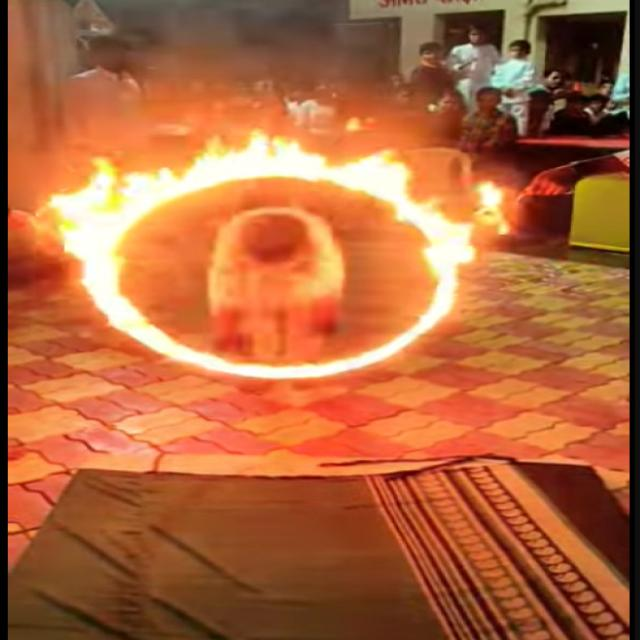fire: (49, 130, 411, 252), (396, 181, 507, 359), (68, 246, 192, 362), (193, 344, 398, 378)
